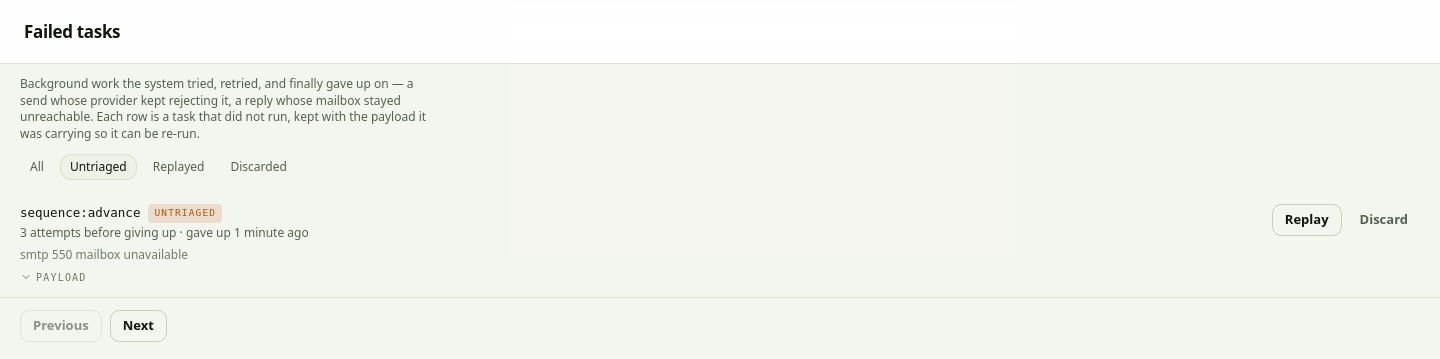
it: switching filters drops the cursor rather than carrying it to another queue
Expected: the text "sequence:advance" is shown, [20,204,140,223]
Click the button "Next": [138, 326] box [110,310,167,342]
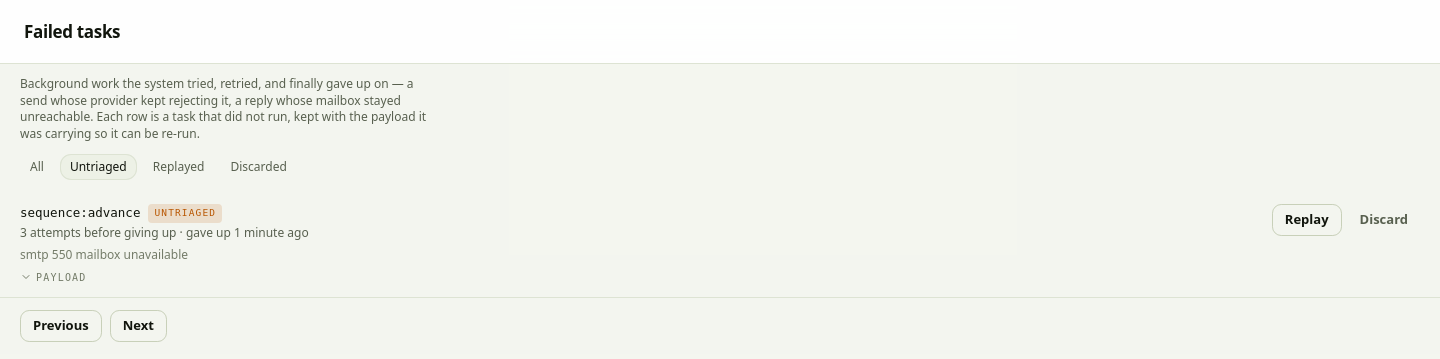
Click the button "Discarded": [259, 167] box [220,154,297,180]
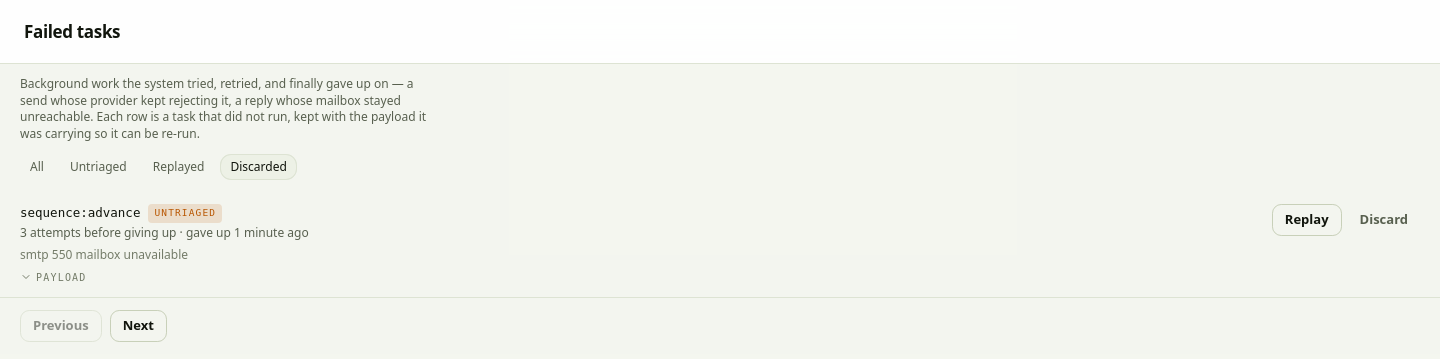
Now the button "Previous" is disabled, box [20,310,102,342]
